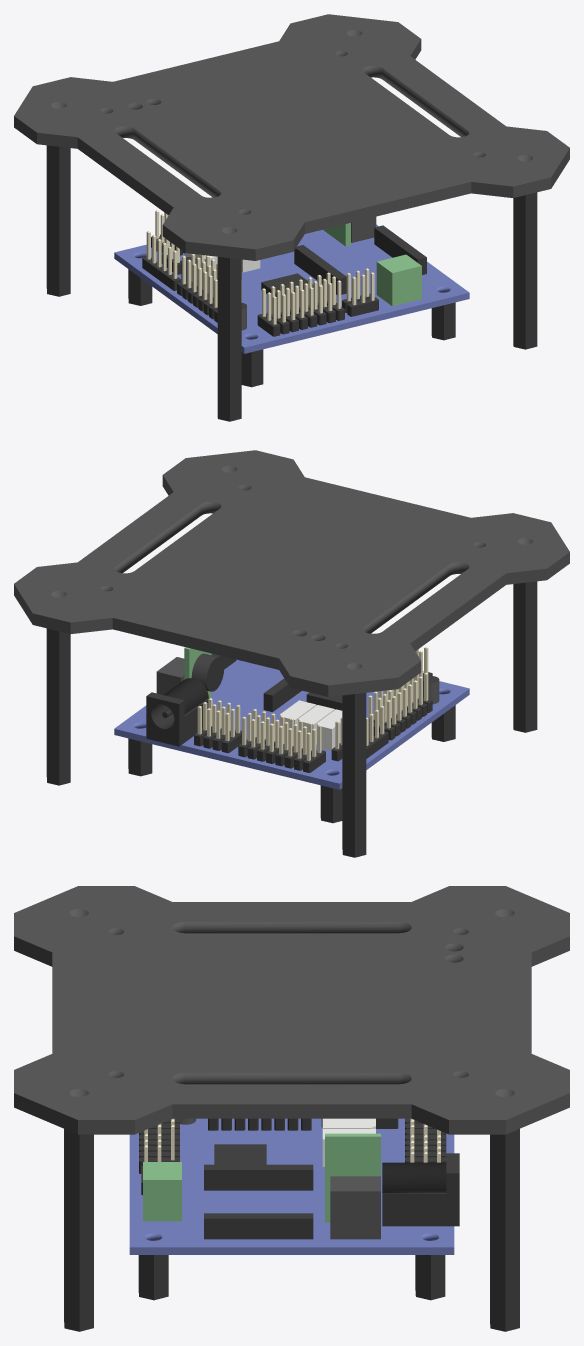
Rendered from phantomx_pincher_mount.dae.
3 views of the same model, one above another, from view 1: azimuth 30°, elevation 25°; view 2: azimuth 150°, elevation 25°; view 3: azimuth 270°, elevation 25° (orthographic). The views are drawn at different scales.
Visible parts, largest first — view 1: phantomx_pincher_mount, arbotix_board; view 2: phantomx_pincher_mount, arbotix_board; view 3: phantomx_pincher_mount, arbotix_board.
Part boxes in pixels (left/top/right/bottom): phantomx_pincher_mount: left=14, top=14, right=569, bottom=421; arbotix_board: left=114, top=197, right=469, bottom=387; phantomx_pincher_mount: left=14, top=450, right=569, bottom=857; arbotix_board: left=114, top=633, right=469, bottom=823; phantomx_pincher_mount: left=14, top=886, right=569, bottom=1331; arbotix_board: left=129, top=1118, right=459, bottom=1300.
Bounding box in the file's own units: 0.104 × 0.1044 × 0.048.
